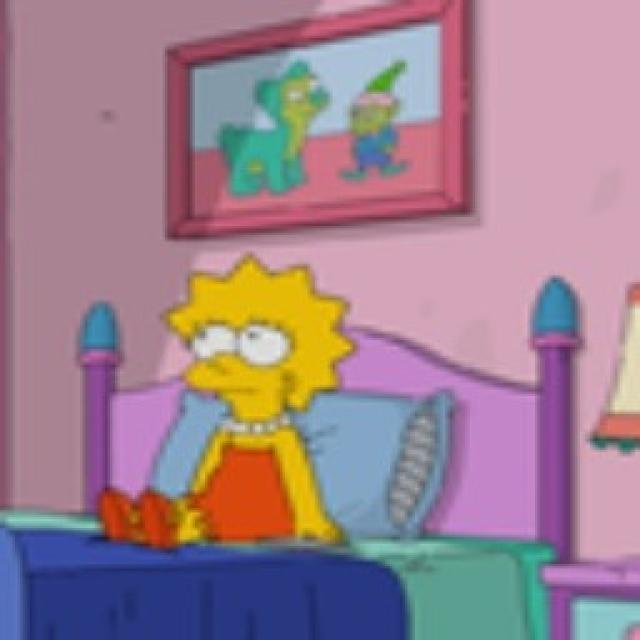Lisa Simpson: (168, 258, 352, 436)
